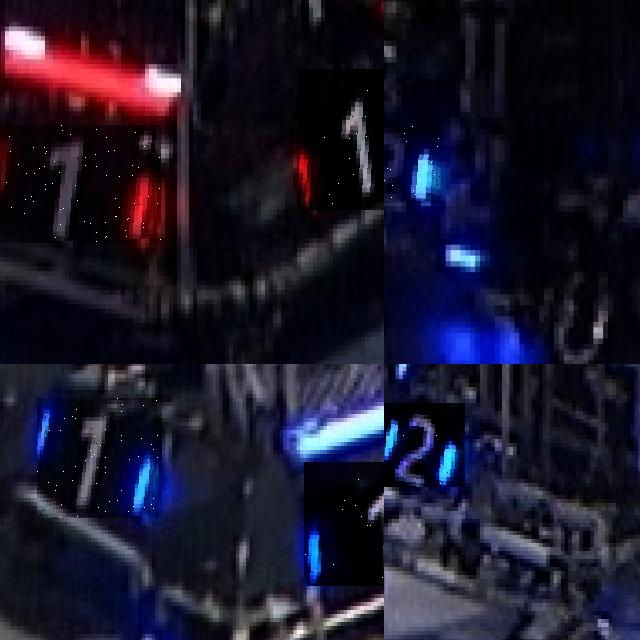B1: (37, 398, 162, 518), (303, 462, 384, 586)
B2: (384, 403, 465, 487), (384, 126, 440, 203)
R1: (0, 125, 161, 242), (297, 69, 384, 210)
